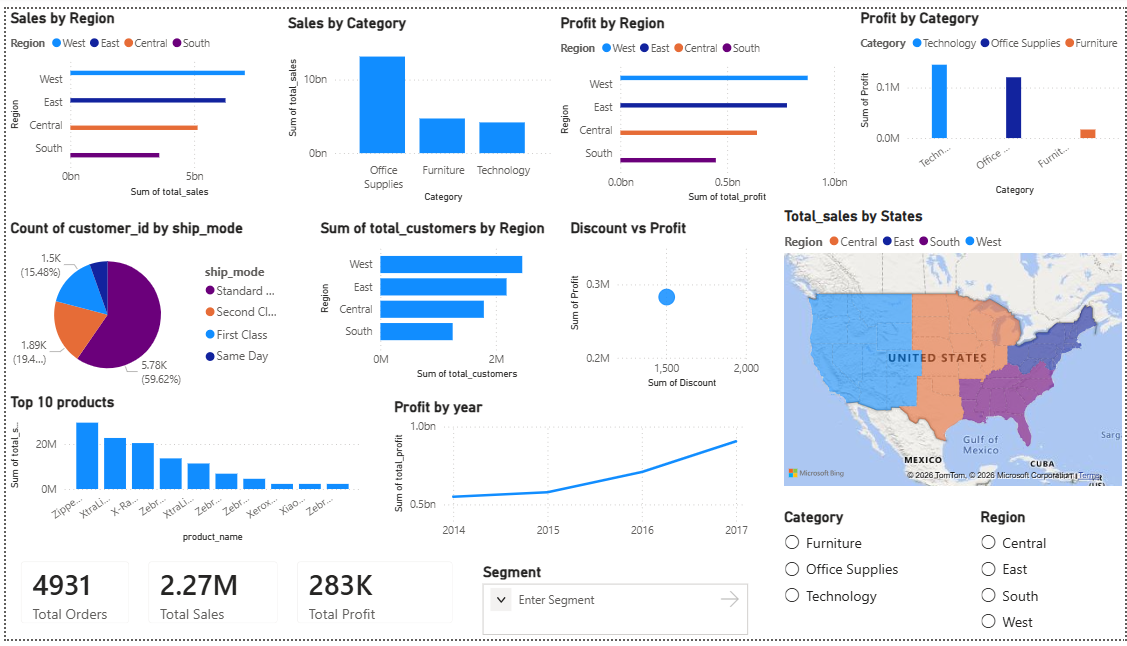

The dashboard page shown, as its layout file describes it:
{"tool":"powerbi","page":{"name":"Page 1","canvas":[1280,720],"ordinal":0},"visuals":[{"type":"cardVisual","fields":{"Data":["superstore_data_cleaned.Total Profit"]},"box":[315.7,614.3,212.9,105.7],"z":1},{"type":"clusteredBarChart","title":"Sales by Region","fields":{"Category":["superstore_data_cleaned.Region"],"Y":["Sum(superstore_data_cleaned.total_sales)"],"Series":["superstore_data_cleaned.Region"]},"box":[0,0,316.2,220],"z":3},{"type":"clusteredBarChart","title":"Profit by Region","fields":{"Y":["Sum(superstore_data_cleaned.total_profit)"],"Category":["superstore_data_cleaned.Region"],"Series":["superstore_data_cleaned.Region"]},"box":[628,6,338,220],"z":4},{"type":"clusteredColumnChart","title":"Sales by Category","fields":{"Y":["Sum(superstore_data_cleaned.total_sales)"],"Category":["superstore_data_cleaned.Category"]},"box":[317.5,6.2,311.2,220],"z":5},{"type":"clusteredColumnChart","title":"Profit by Category","fields":{"Y":["Sum(superstore_data_cleaned.Profit)"],"Category":["superstore_data_cleaned.Category"],"Series":["superstore_data_cleaned.Category"]},"box":[971.2,0,308.8,217.5],"z":6},{"type":"lineChart","title":"Profit by year","fields":{"Y":["Sum(superstore_data_cleaned.total_profit)"],"Category":["superstore_data_cleaned.year"]},"box":[438,444,414,170],"z":7},{"type":"clusteredColumnChart","title":"Top 10 products","fields":{"Category":["superstore_data_cleaned.product_name"],"Y":["Sum(superstore_data_cleaned.total_sales)"]},"box":[0,438,410,176],"z":8},{"type":"filledMap","title":"Total_sales by States ","fields":{"Category":["superstore_data_cleaned.State"],"Series":["superstore_data_cleaned.Region"]},"box":[884.3,225.7,395.7,324.3],"z":9},{"type":"scatterChart","title":"Discount vs Profit","fields":{"X":["Sum(superstore_data_cleaned.Discount)"],"Y":["Sum(superstore_data_cleaned.Profit)"],"Size":["CountNonNull(superstore_data_cleaned.Sales)"]},"box":[640,240,225.7,198.6],"z":10},{"type":"pieChart","title":"Customer Distribution by Shipping Mode","fields":{"Category":["superstore_data_cleaned.ship_mode"],"Y":["CountNonNull(superstore_data_cleaned.customer_id)"]},"box":[0,240,328.6,200],"z":11},{"type":"listSlicer","fields":{"Values":["superstore_data_cleaned.Region"]},"box":[1108.6,570,171.4,150],"z":12},{"type":"listSlicer","fields":{"Values":["superstore_data_cleaned.Category"]},"box":[884.3,570,175.7,150],"z":13},{"type":"textSlicer","fields":{"Values":["superstore_data_cleaned.Segment"]},"box":[540,632.9,312.9,87.1],"z":14},{"type":"clusteredBarChart","title":"Customers by Region","fields":{"Y":["Sum(superstore_data_cleaned.total_customers)"],"Category":["superstore_data_cleaned.Region"]},"box":[354.3,240,285.7,188.6],"z":15},{"type":"cardVisual","fields":{"Data":["superstore_data_cleaned.Total Orders"]},"box":[0,614.3,158.6,105.7],"z":16},{"type":"cardVisual","fields":{"Data":["superstore_data_cleaned.Total Sales"]},"box":[145.7,614.3,182.9,105.7],"z":17}]}

Visuals, with their boxes in screenshot pixels (x1, y1, x2, y2), scaled from the page's 1280x720 canvas onto the 1127x646 screenshot:
cardVisual - superstore_data_cleaned.Total Profit: 278 551 465 645
"Sales by Region" clusteredBarChart: 0 0 278 197
"Profit by Region" clusteredBarChart: 553 5 851 203
"Sales by Category" clusteredColumnChart: 280 6 554 203
"Profit by Category" clusteredColumnChart: 855 0 1126 195
"Profit by year" lineChart: 386 398 750 551
"Top 10 products" clusteredColumnChart: 0 393 361 551
"Total_sales by States " filledMap: 779 203 1126 493
"Discount vs Profit" scatterChart: 564 215 762 394
"Customer Distribution by Shipping Mode" pieChart: 0 215 289 395
listSlicer - superstore_data_cleaned.Region: 976 511 1126 645
listSlicer - superstore_data_cleaned.Category: 779 511 933 645
textSlicer - superstore_data_cleaned.Segment: 475 568 751 645
"Customers by Region" clusteredBarChart: 312 215 564 385
cardVisual - superstore_data_cleaned.Total Orders: 0 551 140 645
cardVisual - superstore_data_cleaned.Total Sales: 128 551 289 645
